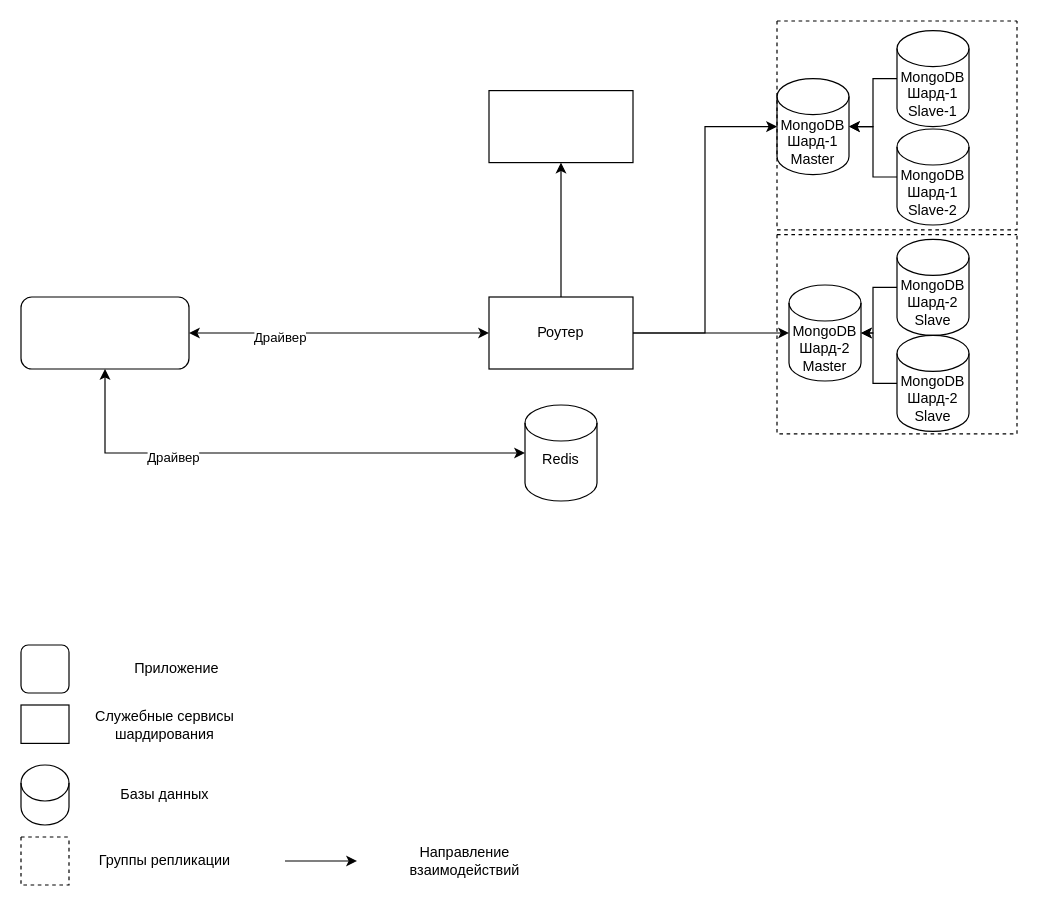
The diagram is 1038 pixels wide and 906 high, and some of its shapes have lost their labels. The shapes that lost their labels are listed below. From the top down, each one's centre as x and y in pixels, then its label:
pixel 560 126: Конфигурационный сервер
pixel 104 332: pymongo-api
